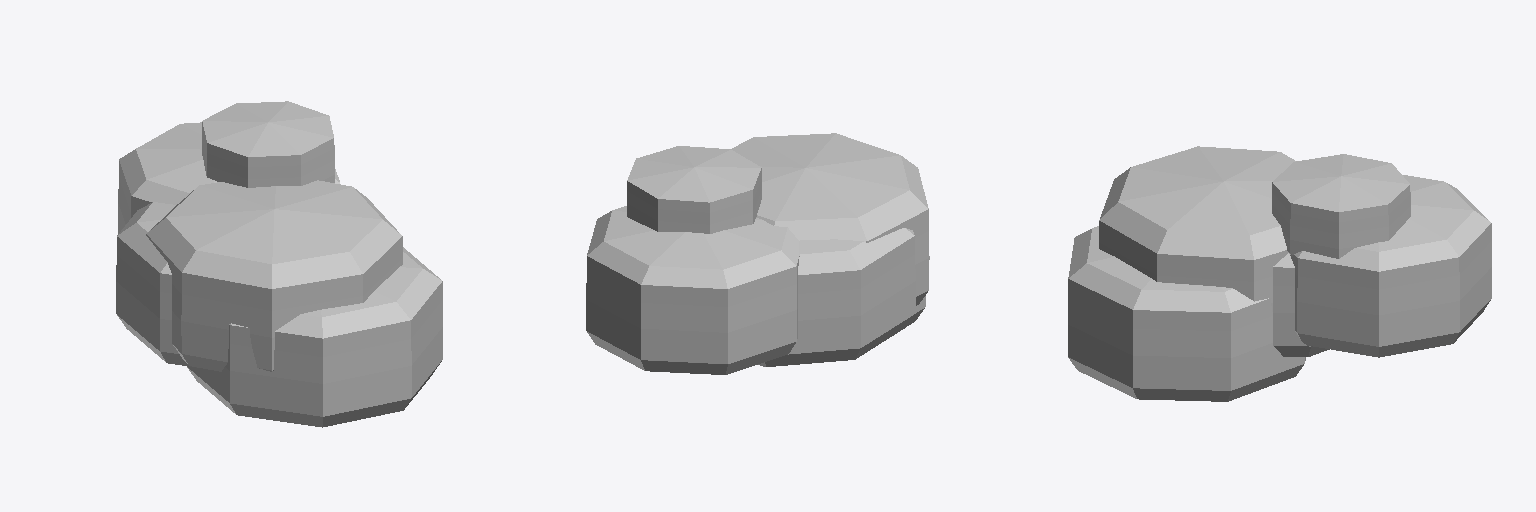
Rendered from westopolis.obj.
3 views of the same model, side by side, from view 1: azimuth 30°, elevation 25°; view 2: azimuth 150°, elevation 25°; view 3: azimuth 270°, elevation 25° (orthographic).
Visible parts, largest first — view 1: stg0100_model; view 2: stg0100_model; view 3: stg0100_model.
Boxes of the visible parts, <box> form: stg0100_model: <box>116,101,442,427</box>; stg0100_model: <box>586,133,929,374</box>; stg0100_model: <box>1068,146,1491,401</box>.
Size of the model in its own units: 232 by 183 by 349.